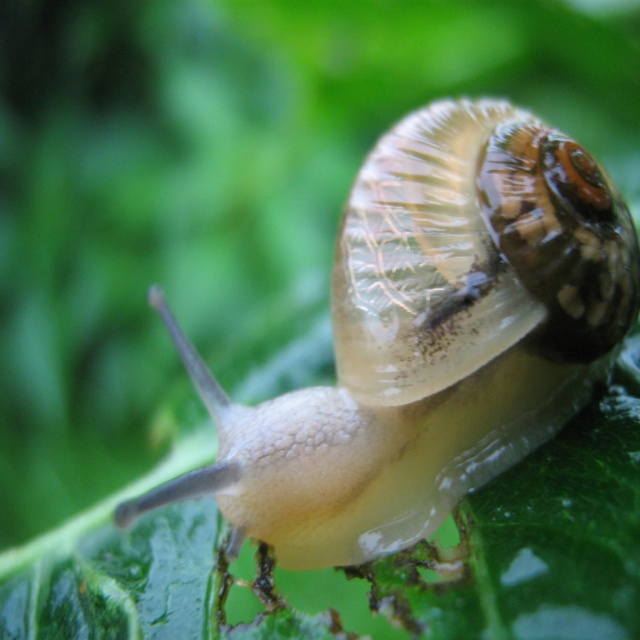Snail: (113, 98, 640, 570)
